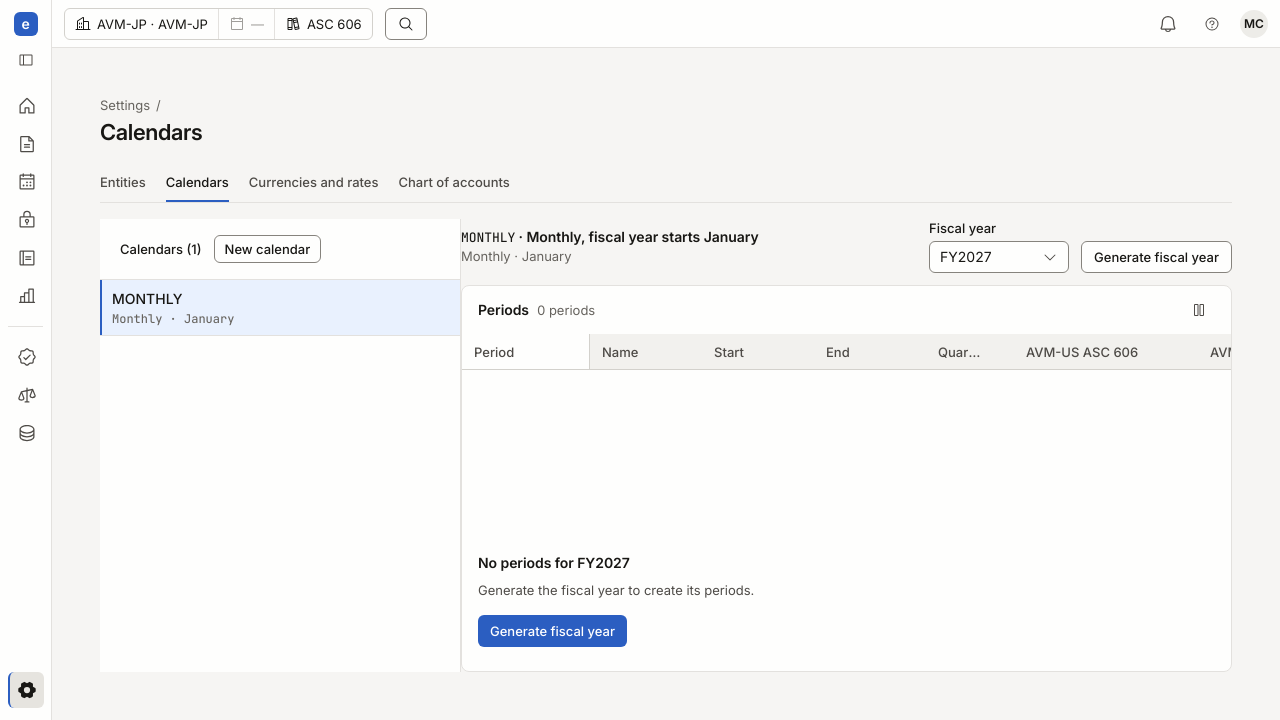
SF-15:calendars › without periods for the fiscal year the grid offers Generate fiscal year, which posts the year
Check: the heading "No periods for FY2027" is shown, box [478,553,630,573]
Check: the text "Generate the fiscal year to create its periods." is shown, box [478,581,754,599]
Click the button "Generate fiscal year" below "No periods for FY2027". click: (552, 631)
box: [478,615,627,647]
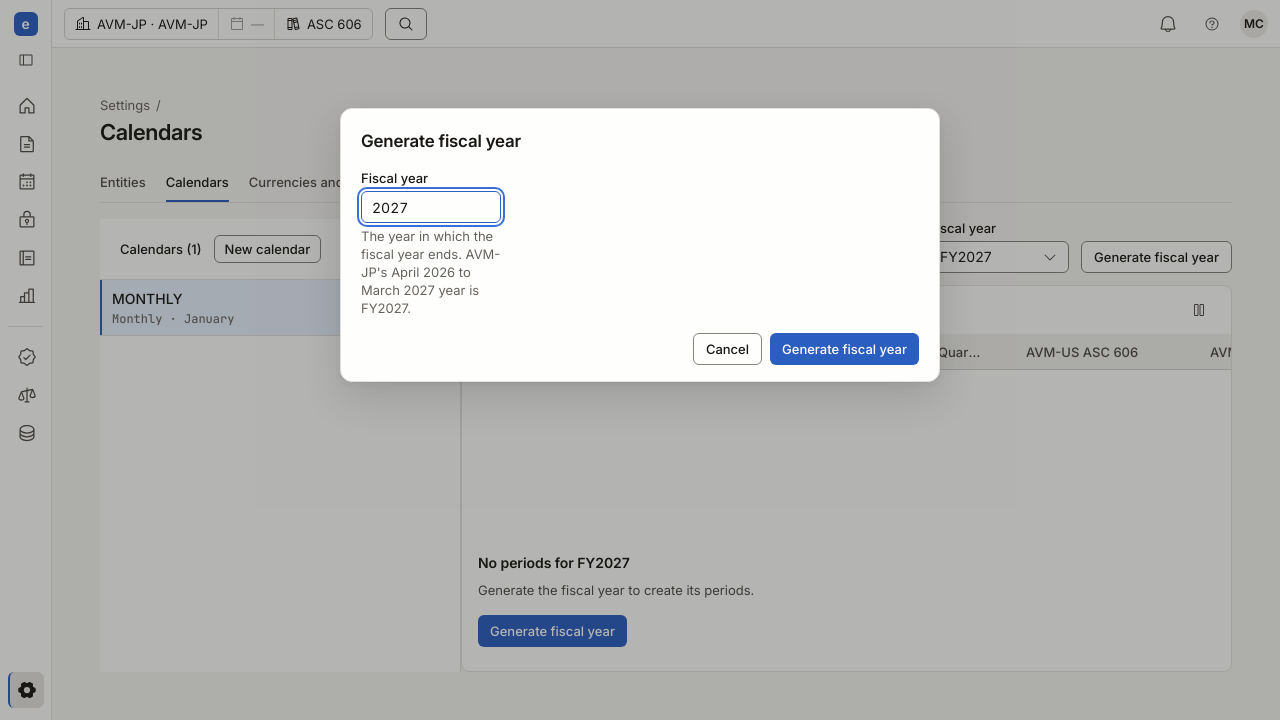
Check: the field labelled "Fiscal year" holds "2027"
Check: the text "AVM-JP's April 2026 to March 2027 year is FY2027." is shown, box [361,228,500,316]
Replace the text in the field labelled "Fiscal year" with "27". click: (431, 207)
box: [361,191,501,223]
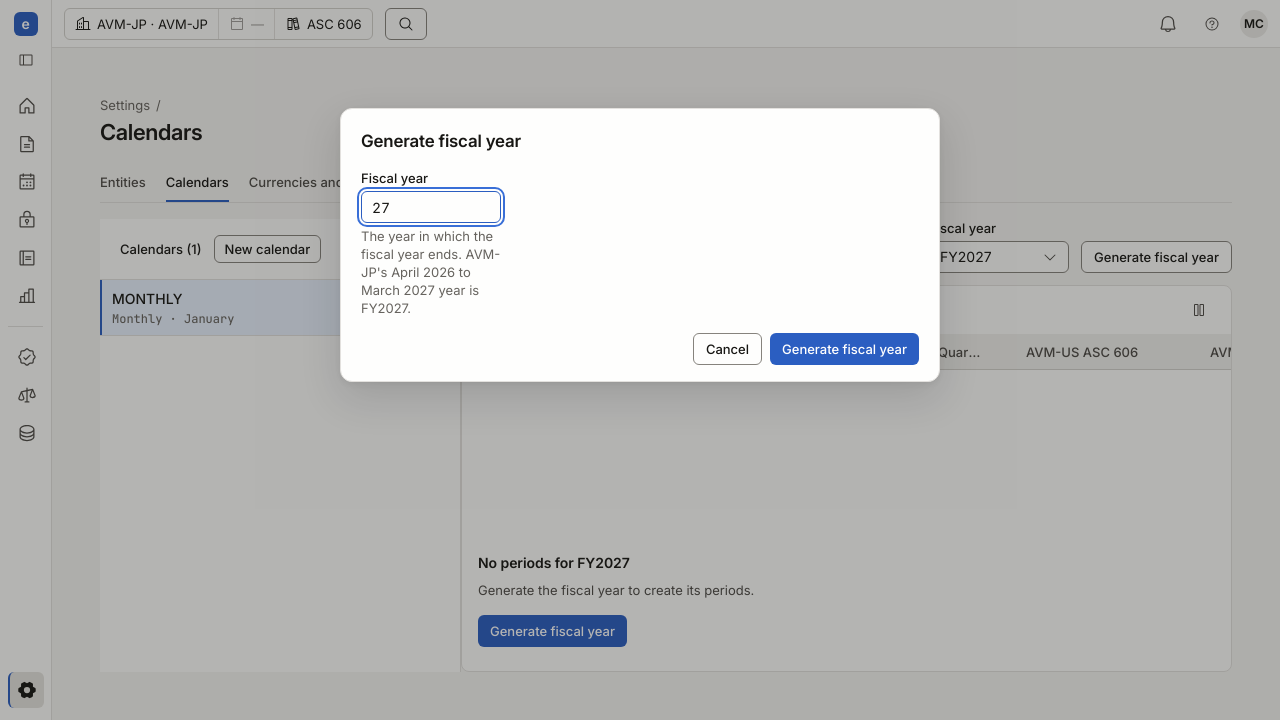
Click the button "Generate fiscal year". click: (844, 349)
box: [770,333,919,365]
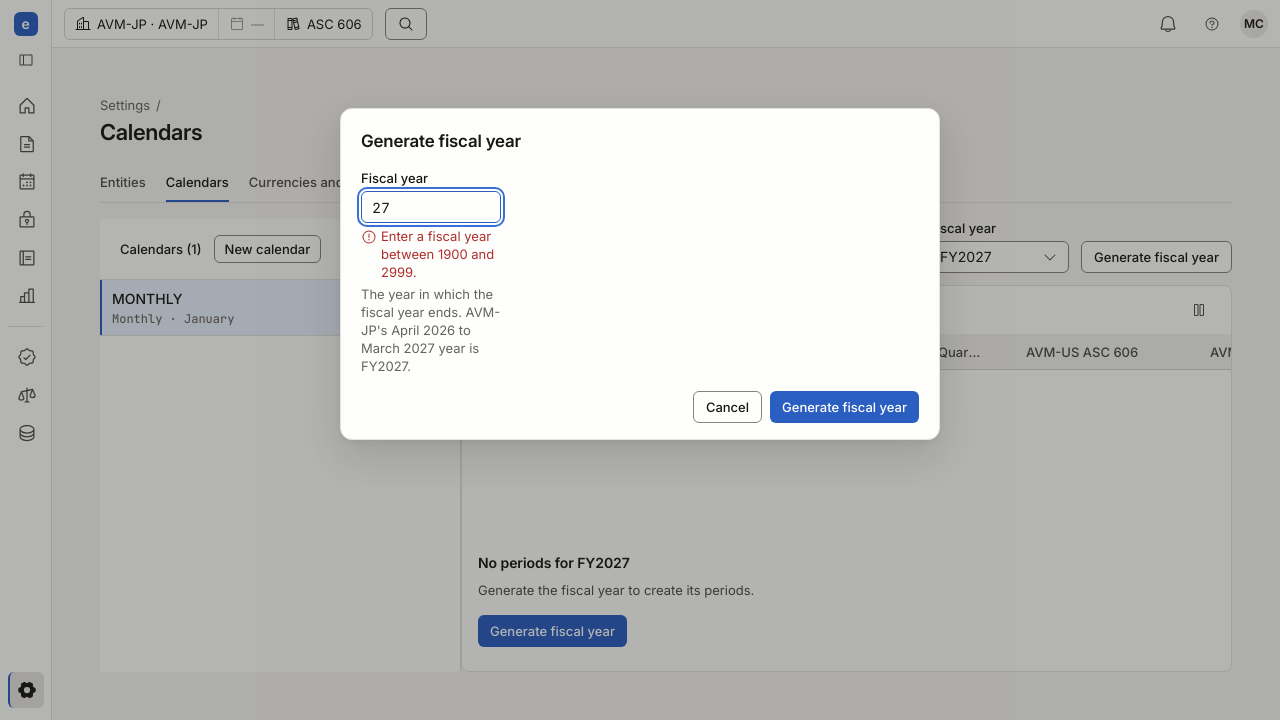
Check: the text "Enter a fiscal year between 1900 and 2999." is shown, box [361,227,501,281]
Replace the text in the field labelled "Fiscal year" with "2027". click: (431, 207)
box: [361,191,501,223]
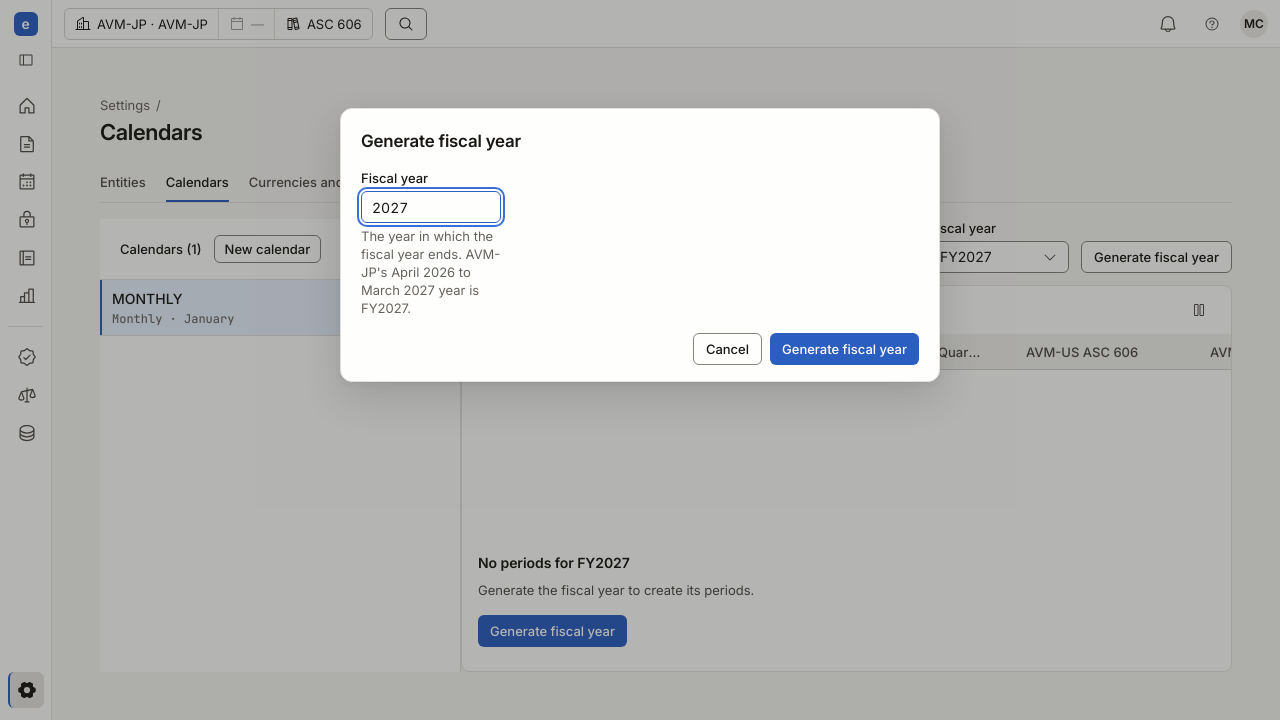
Click the button "Generate fiscal year". click: (844, 349)
box: [770,333,919,365]
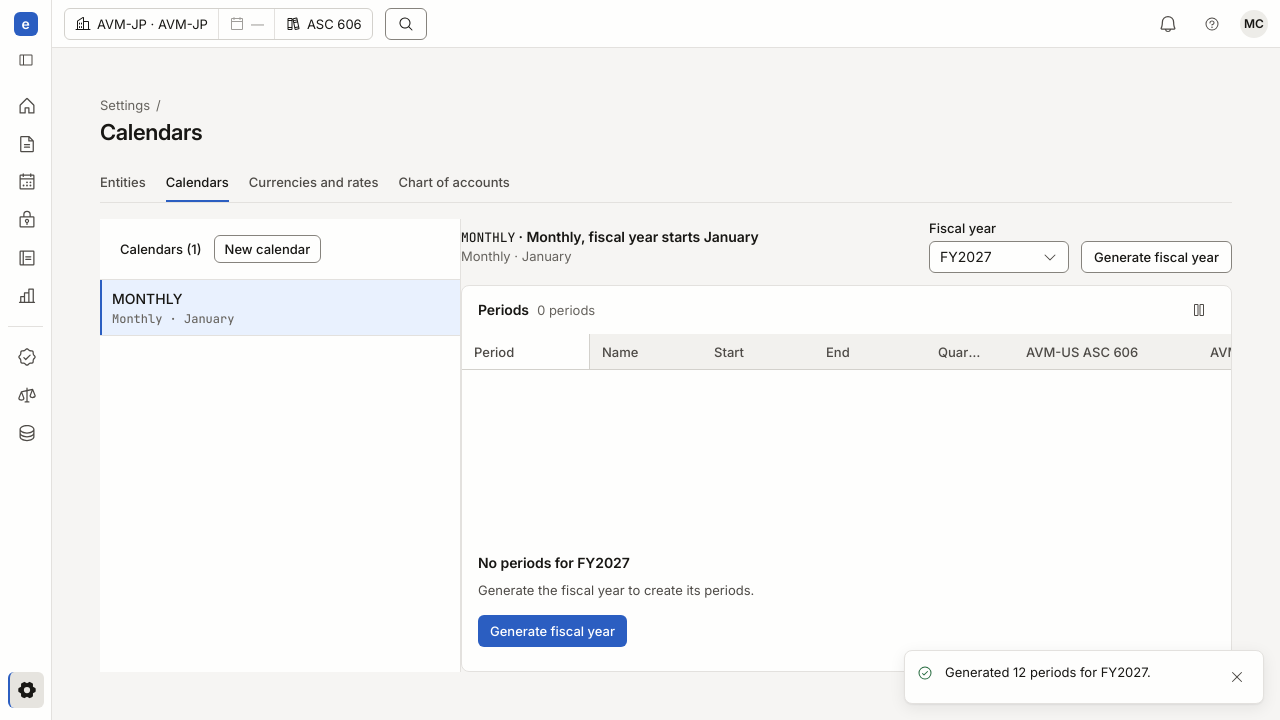
Check: the text "Generated 12 periods for FY2027." is shown, box [945,663,1151,681]
